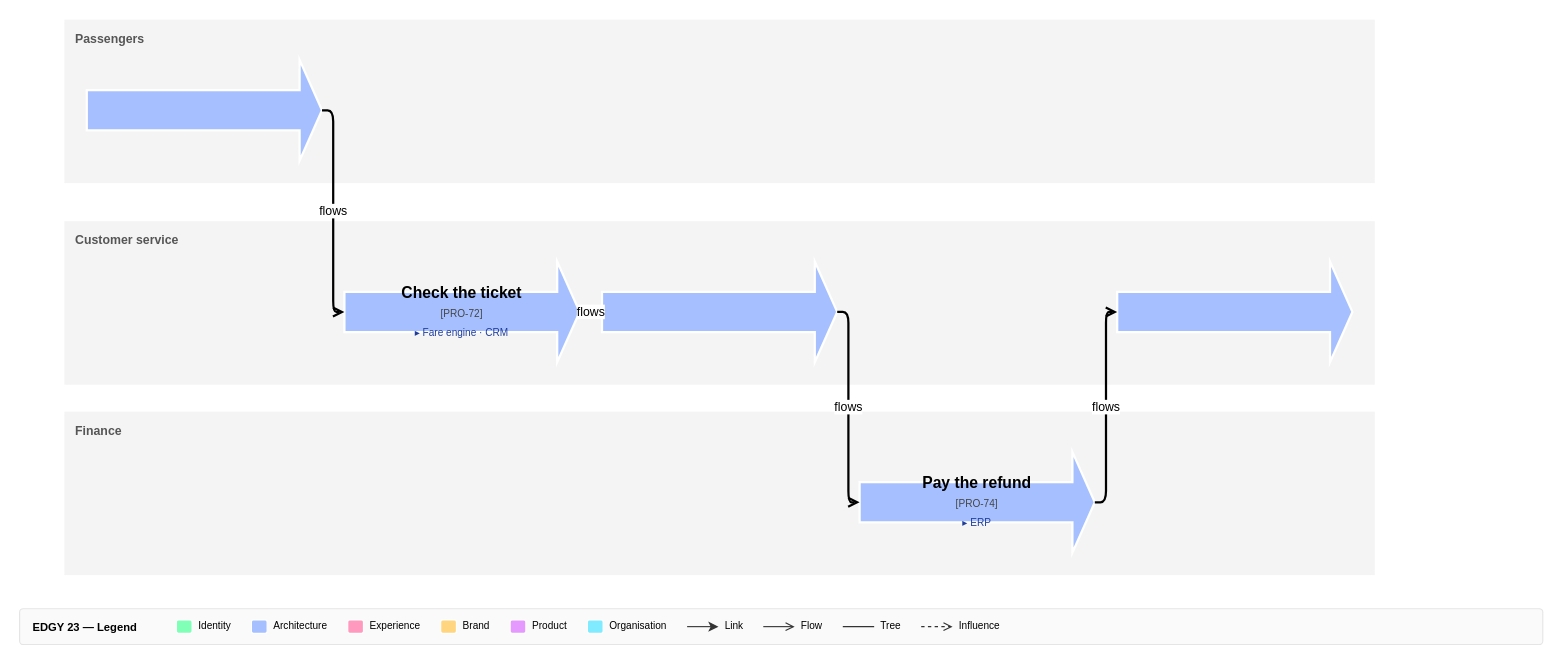
Some shapes in this 1562 by 664 pixel diagram are drawn without their labels. Each missing label, with the centre of its shape:
Approve the refund [PRO-73] ▸ CRM: the point at 719,311
Confirm to the passenger [PRO-75] ▸ CRM: the point at 1234,311
Request a refund [PRO-71] ▸ Customer portal: the point at 204,109
